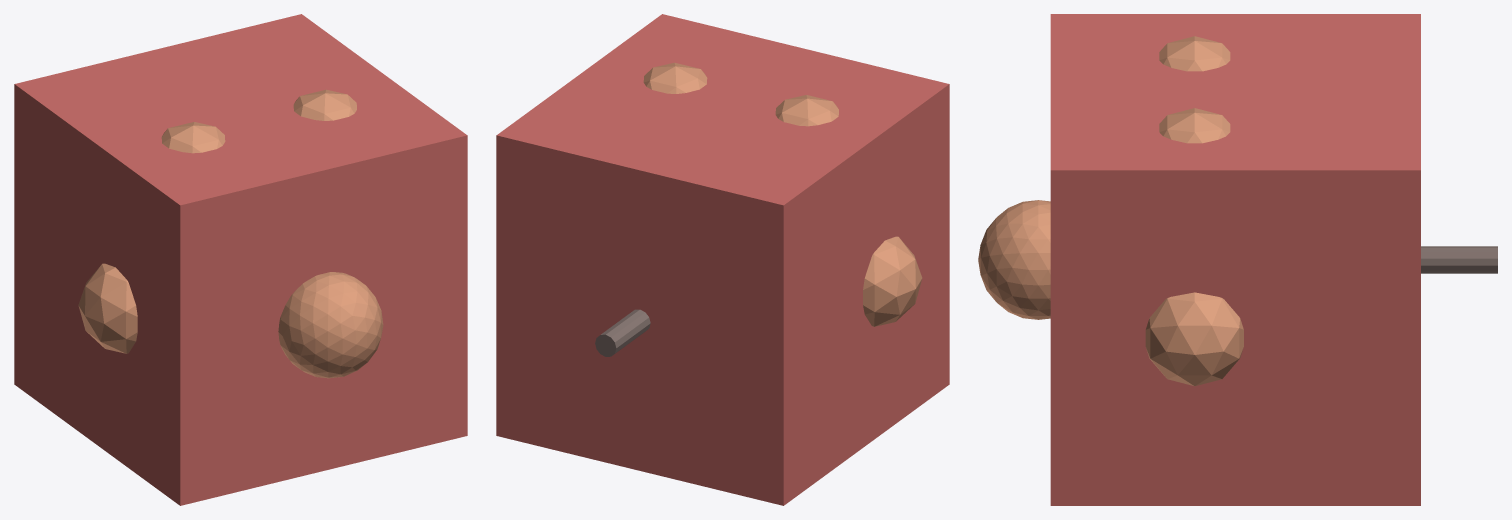
File: roter_balloon.glb
3 renders of one model, left to right at view 1: azimuth 30°, elevation 25°; view 2: azimuth 150°, elevation 25°; view 3: azimuth 270°, elevation 25°, orthographic. The views are drawn at different scales.
Parts seen in each view (by area): view 1: world; view 2: world; view 3: world.
Part boxes in pixels (x1,y1,x2,y2): world: [14, 14, 467, 505]; world: [496, 14, 949, 505]; world: [978, 14, 1497, 505].
Size of the model in its own units: 1.64 by 1.47 by 1.89.
